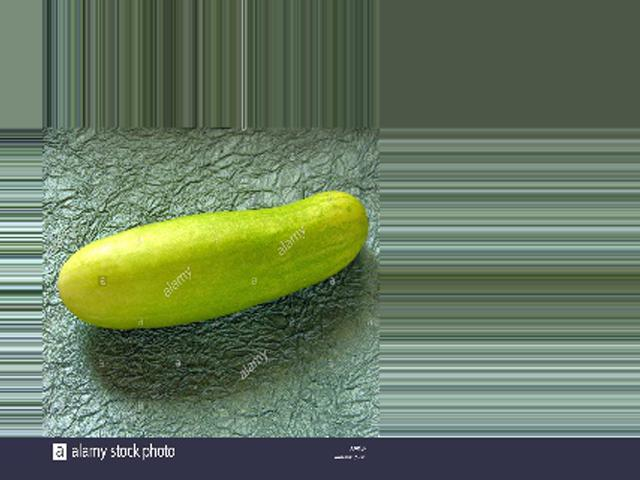cucumber: (57, 190, 369, 328)
